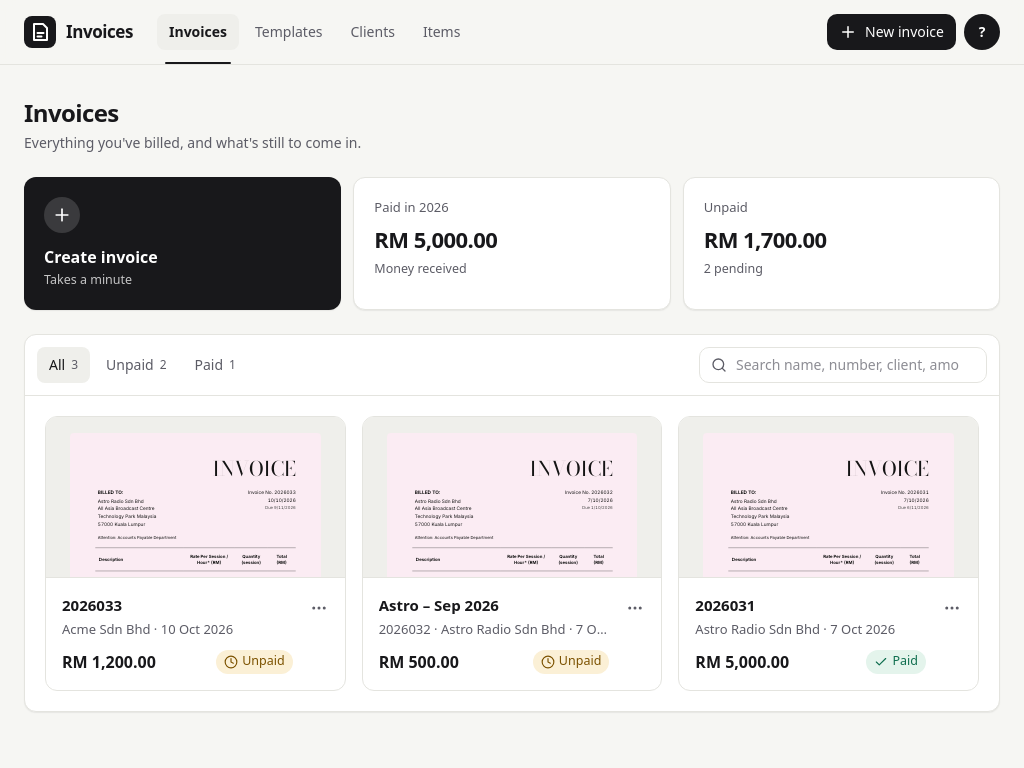
Test: invoices dashboard › searches by invoice name
The image size is (1024, 768).
Step 1. Type "sep 2026" into the search field named "Search invoices" → coordinates (843, 365), box top-left (699, 347), bottom-right (987, 383)
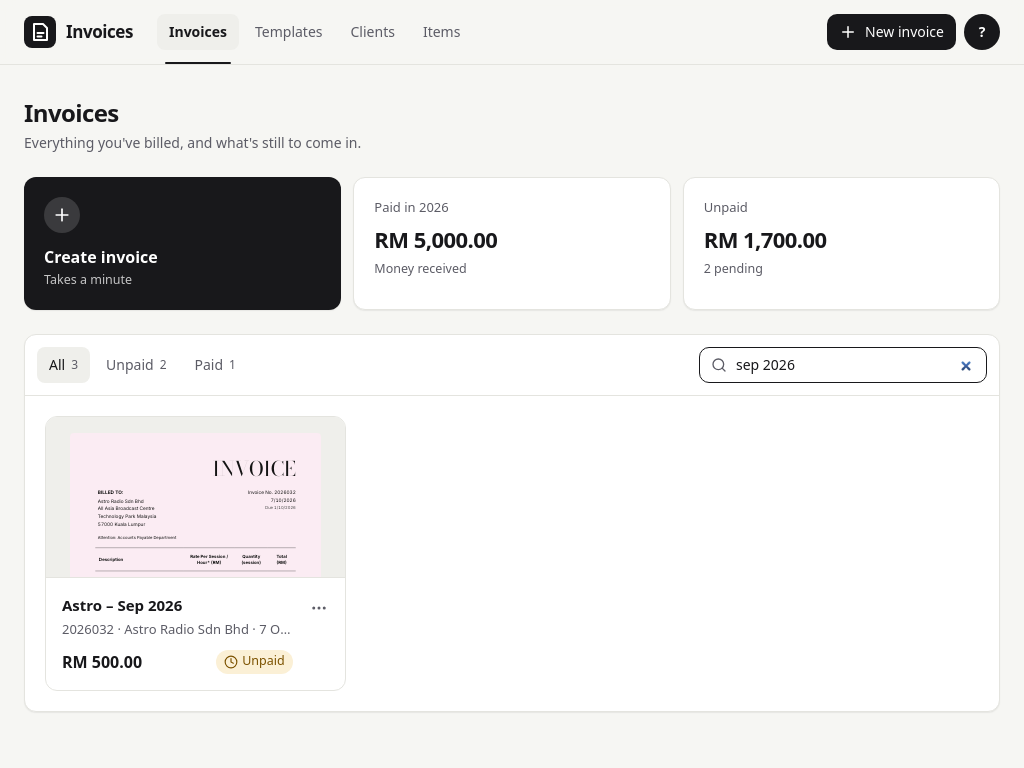
Expected: the links read "Astro – Sep 2026", in this order, top-left (62, 595), bottom-right (182, 615)
